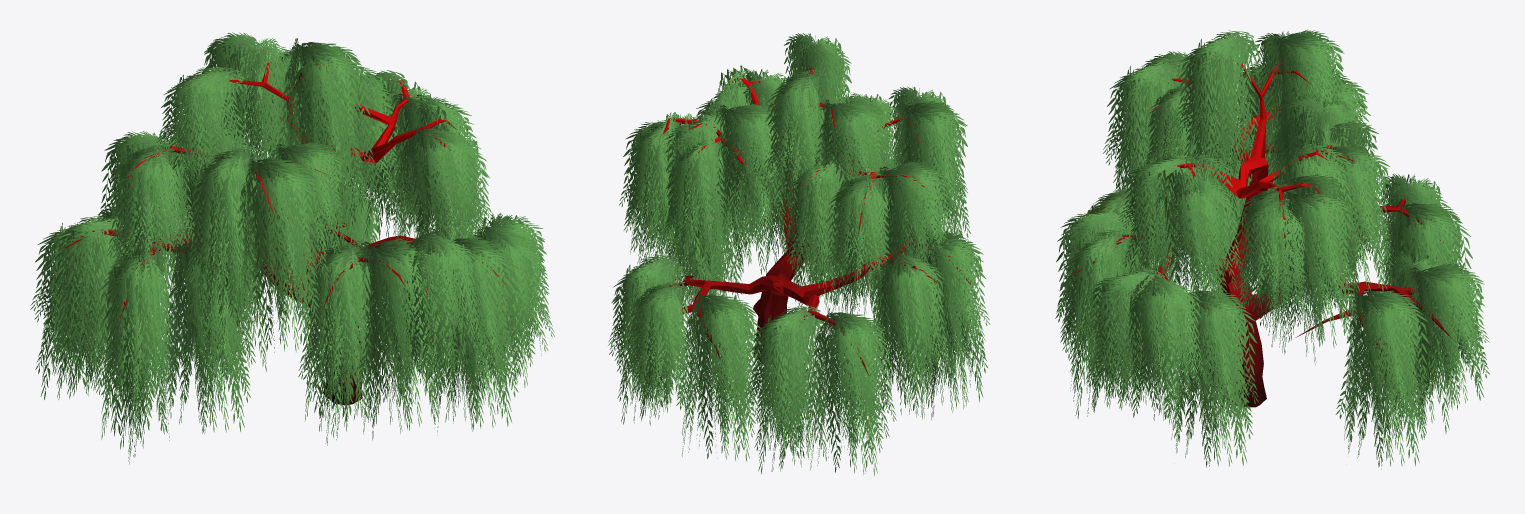
File: PT_Weeping_Willow_Tree_02_green_cut.fbx
The picture shows the model from 3 angles, left to right: view 1: azimuth 30°, elevation 25°; view 2: azimuth 150°, elevation 25°; view 3: azimuth 270°, elevation 25°; orthographic projection. The views are drawn at different scales.
Parts seen in each view (by area): view 1: PT_Weeping_Willow_Tree_02_green_cut; view 2: PT_Weeping_Willow_Tree_02_green_cut; view 3: PT_Weeping_Willow_Tree_02_green_cut.
Part boxes in pixels (x1,y1,x2,y2): PT_Weeping_Willow_Tree_02_green_cut: (30,32,554,464); PT_Weeping_Willow_Tree_02_green_cut: (608,33,990,475); PT_Weeping_Willow_Tree_02_green_cut: (1055,29,1489,469).
Bounding box in the file's own units: 1062 × 1029 × 1080.
